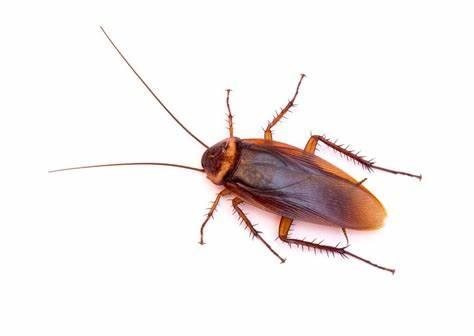cockroach: (195, 124, 390, 256)
